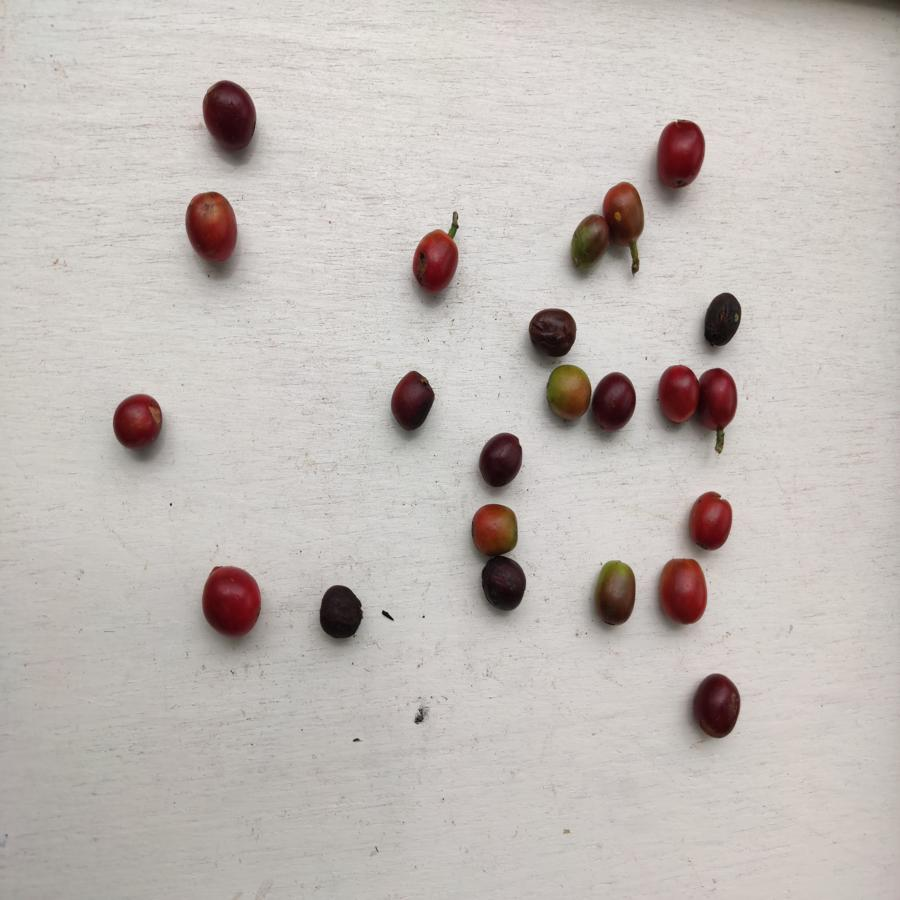Maduro: (196, 563, 264, 639), (183, 189, 239, 266), (653, 116, 708, 190), (109, 391, 169, 451), (656, 556, 708, 625), (411, 229, 459, 295), (687, 489, 733, 553), (657, 361, 699, 428), (695, 367, 737, 428)
Pinton: (595, 557, 638, 627), (604, 179, 650, 243), (544, 362, 591, 422), (466, 505, 519, 555), (568, 215, 612, 269)
Sobremaduro: (201, 77, 259, 149), (691, 673, 743, 739), (389, 367, 437, 431), (590, 370, 636, 434), (316, 583, 367, 640), (479, 556, 527, 614), (476, 431, 524, 487), (528, 307, 577, 357), (703, 290, 742, 348)
